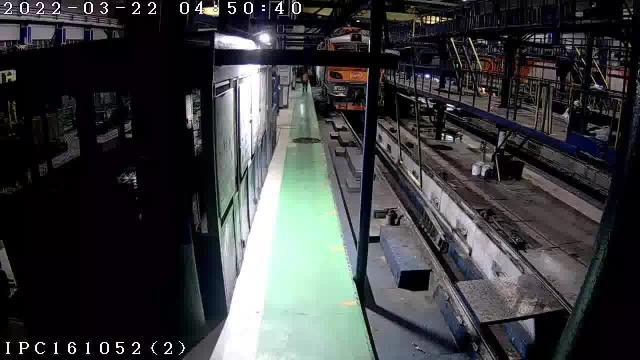person: (303, 72, 309, 92)
train: (316, 66, 366, 110)
